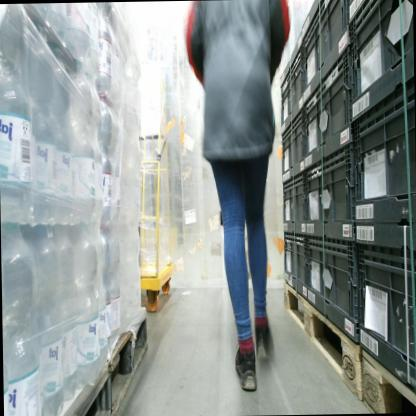pallet: (280, 276, 364, 410), (110, 307, 149, 416), (360, 348, 416, 411), (56, 359, 112, 416)
